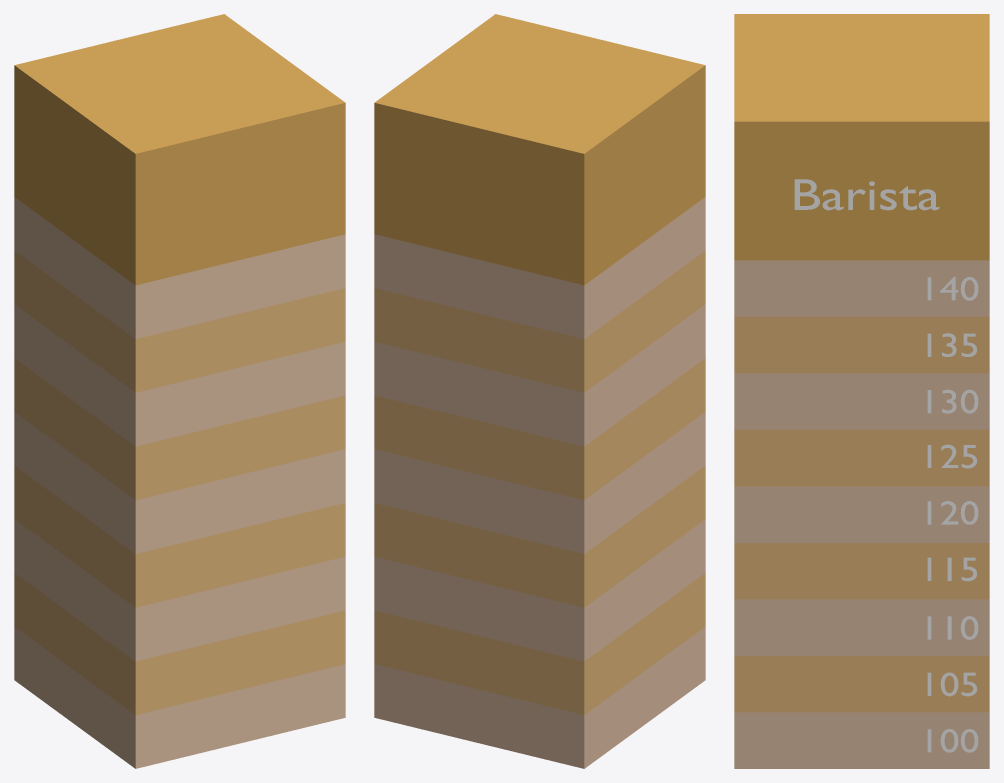
The model's file is barista_block.fbx.
The picture shows the model from 3 angles, left to right: view 1: azimuth 30°, elevation 25°; view 2: azimuth 150°, elevation 25°; view 3: azimuth 270°, elevation 25°; orthographic projection. The views are drawn at different scales.
Visible parts, largest first — view 1: Cube.029, Cube.028, Cube.027, Cube.022, Cube.021, Cube.020, Cube.026, Cube.025, Cube.023, Cube.024; view 2: Cube.029, Cube.028, Cube.027, Cube.022, Cube.021, Cube.020, Cube.026, Cube.025, Cube.023, Cube.024; view 3: Cube.029, Cube.027, Cube.025, Cube.023, Cube.022, Cube.028, Cube.024, Cube.021, Cube.026, Cube.020, Text.027, Text.029 (+8 smaller).
Part boxes in pixels (bbox=[...]): Cube.029: bbox=[14, 14, 345, 285]; Cube.028: bbox=[14, 197, 345, 338]; Cube.027: bbox=[14, 250, 345, 392]; Cube.022: bbox=[14, 519, 345, 661]; Cube.021: bbox=[14, 573, 345, 715]; Cube.020: bbox=[14, 627, 345, 768]; Cube.026: bbox=[14, 304, 345, 446]; Cube.025: bbox=[14, 358, 345, 500]; Cube.023: bbox=[14, 465, 345, 607]; Cube.024: bbox=[14, 412, 345, 553]; Cube.029: bbox=[374, 14, 705, 285]; Cube.028: bbox=[374, 197, 705, 338]; Cube.027: bbox=[374, 250, 705, 392]; Cube.022: bbox=[374, 519, 705, 661]; Cube.021: bbox=[374, 573, 705, 715]; Cube.020: bbox=[374, 627, 705, 768]; Cube.026: bbox=[374, 304, 705, 446]; Cube.025: bbox=[374, 358, 705, 500]; Cube.023: bbox=[374, 465, 705, 607]; Cube.024: bbox=[374, 412, 705, 553]; Cube.029: bbox=[734, 14, 989, 260]; Cube.027: bbox=[734, 316, 989, 373]; Cube.025: bbox=[734, 429, 989, 486]; Cube.023: bbox=[734, 543, 989, 599]; Cube.022: bbox=[734, 599, 989, 655]; Cube.028: bbox=[734, 260, 989, 316]; Cube.024: bbox=[734, 486, 989, 542]; Cube.021: bbox=[734, 656, 989, 712]; Cube.026: bbox=[734, 373, 989, 429]; Cube.020: bbox=[734, 712, 989, 768]; Text.027: bbox=[794, 179, 939, 210]; Text.029: bbox=[927, 729, 978, 752].
Size of the model in its own units: 200 by 560 by 200.
